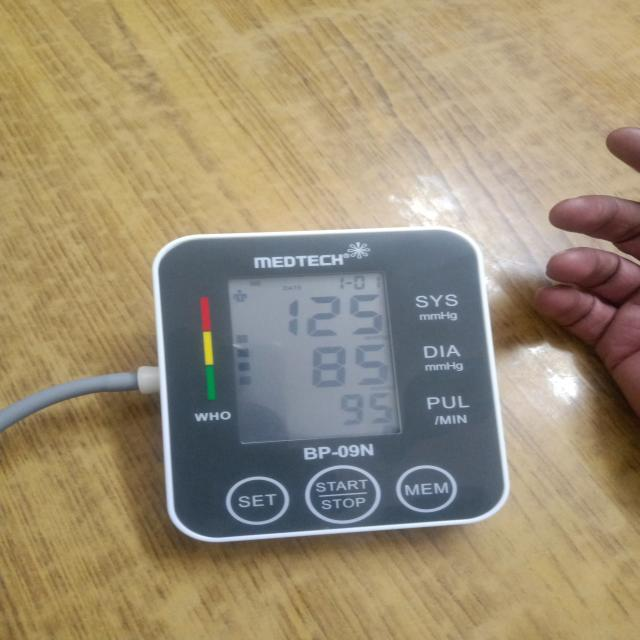display: (222, 268, 405, 448)
frame: (288, 292, 386, 339), (309, 342, 392, 388), (339, 391, 397, 427), (338, 272, 384, 292), (335, 443, 361, 460)
gauge: (149, 223, 515, 546)
